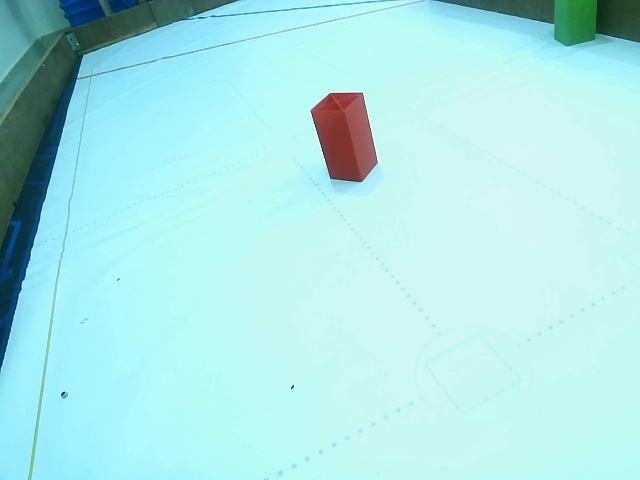red: (322, 93, 373, 181)
